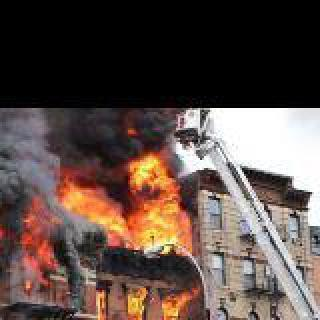fire: (90, 180, 194, 320), (52, 106, 206, 178), (0, 106, 80, 234), (0, 222, 58, 282)
